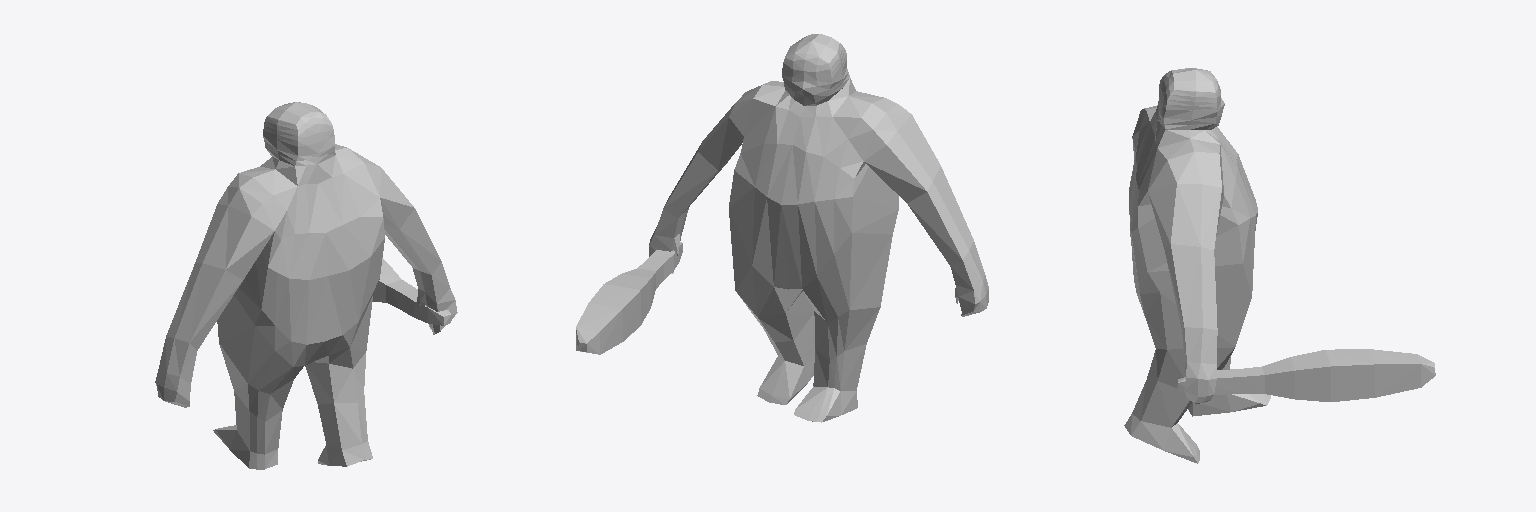
File: Enemigo225.obj
3 renders of one model, left to right at view 1: azimuth 30°, elevation 25°; view 2: azimuth 150°, elevation 25°; view 3: azimuth 270°, elevation 25°, orthographic.
Visible parts, largest first — view 1: Cube; view 2: Cube; view 3: Cube.
Boxes of the visible parts, x1=… form: Cube: x1=155, y1=102, x2=457, y2=469; Cube: x1=576, y1=34, x2=988, y2=422; Cube: x1=1124, y1=68, x2=1435, y2=463.
Size of the model in its own units: 2.51 by 2.85 by 2.17.